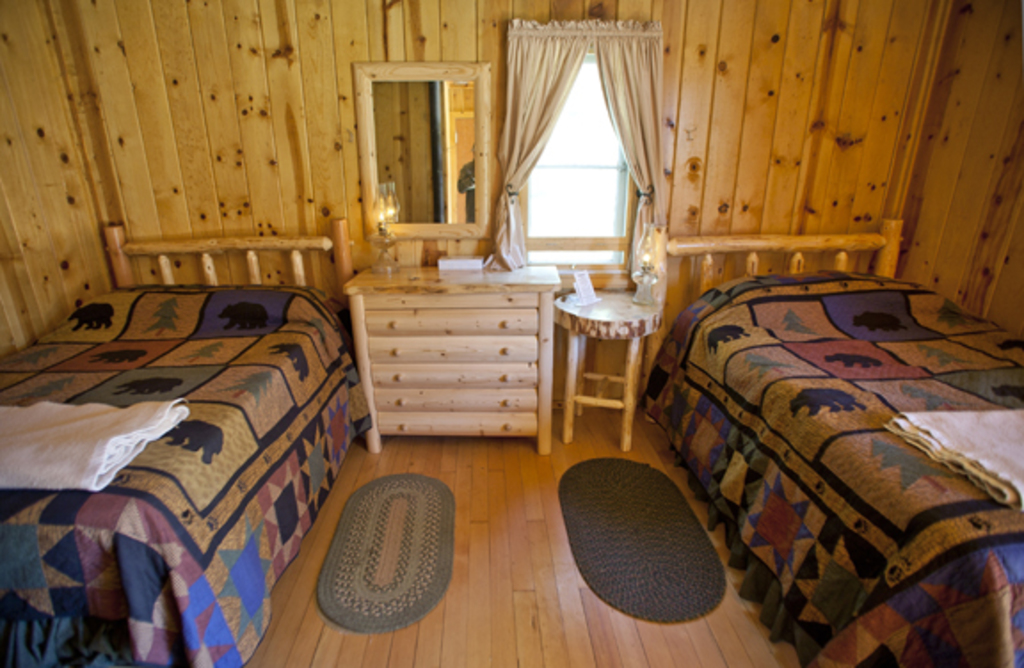cabinet door: (383, 337, 532, 368), (383, 392, 530, 419), (382, 368, 526, 394), (376, 310, 535, 332), (383, 417, 525, 438)
handle: (494, 419, 514, 438), (390, 369, 409, 388), (383, 318, 402, 336), (495, 343, 510, 363), (392, 419, 407, 438), (493, 375, 513, 388), (493, 401, 514, 413), (392, 397, 406, 415), (390, 342, 403, 361), (495, 317, 510, 331)
